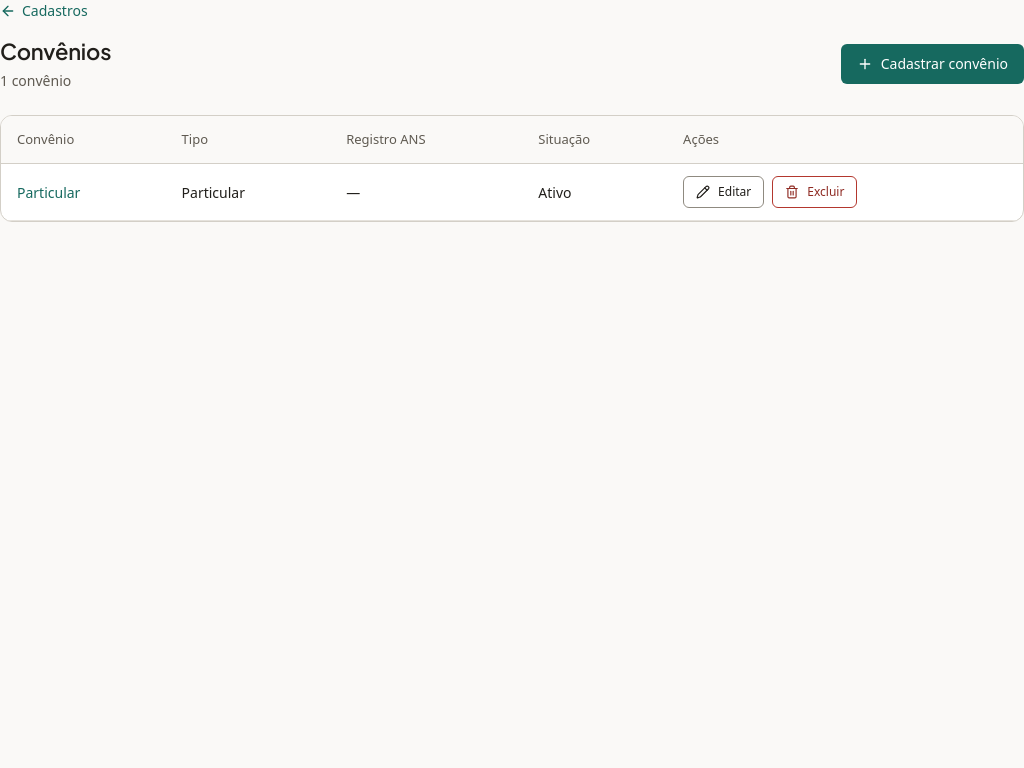
Scenario: Convênios — a flag que decide o destino do dinheiro › deve confirmar antes de mudar "particular" — é o destino do dinheiro
The image size is (1024, 768).
Expected: the link "Particular" is shown, top-left (17, 183), bottom-right (80, 202)
Click the button "Editar".
click(724, 192)  # box top-left (683, 176), bottom-right (764, 208)
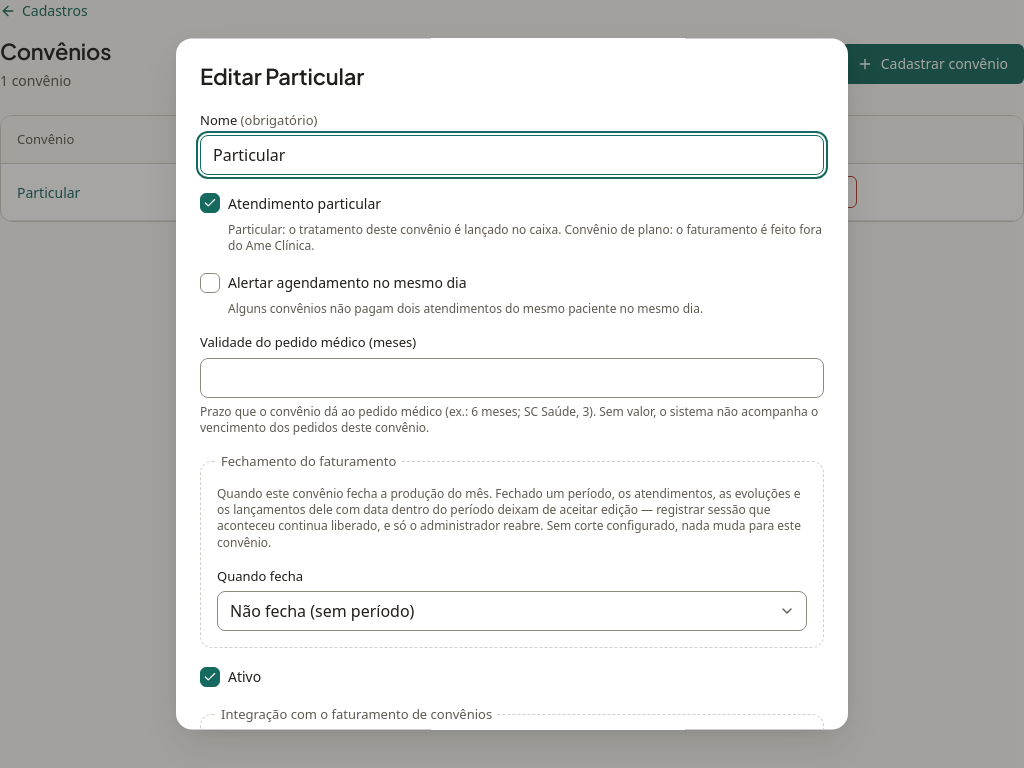
Click the checkbox named "Atendimento particular" next to "Atendimento particular".
click(210, 204)  # box top-left (200, 194), bottom-right (220, 214)
(page scrolled)
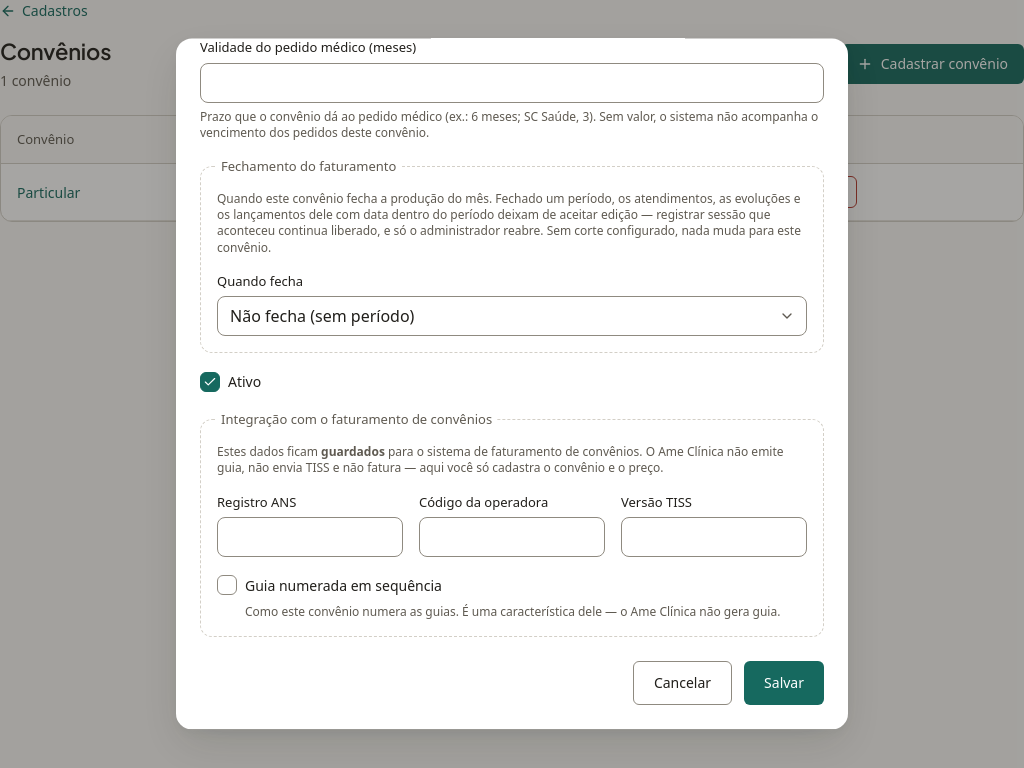
Click the button "Salvar".
click(784, 683)  # box top-left (744, 661), bottom-right (824, 705)
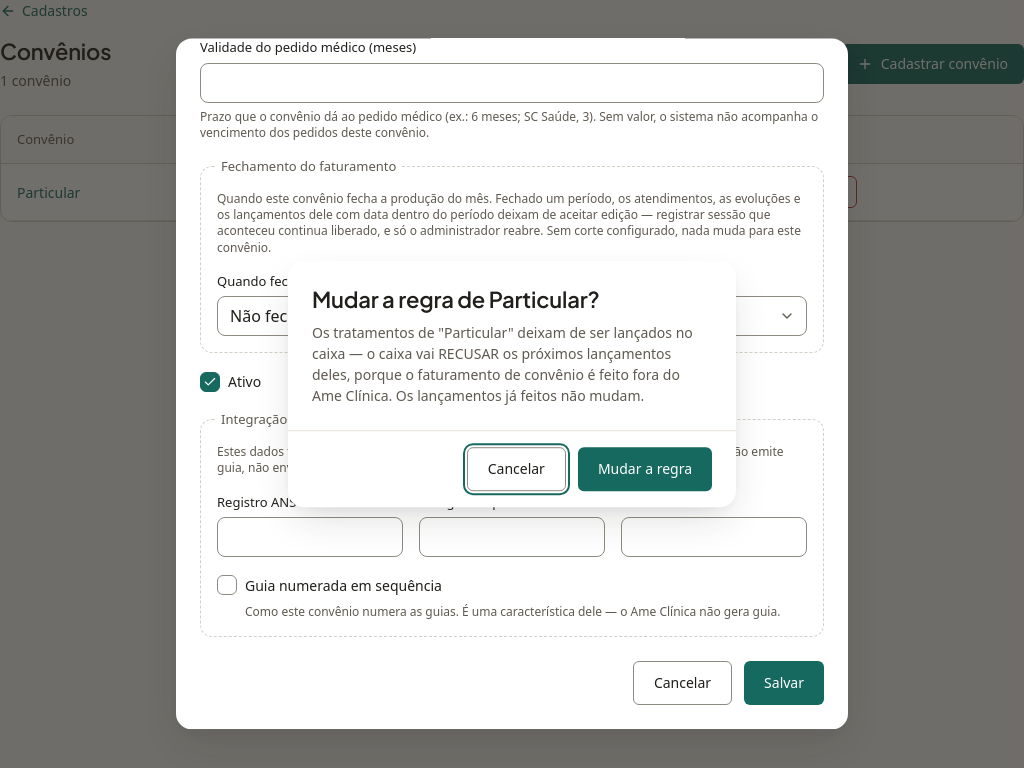
Expected: the text "RECUSAR os próximos lançamentos" is shown, top-left (312, 323), bottom-right (693, 405)
